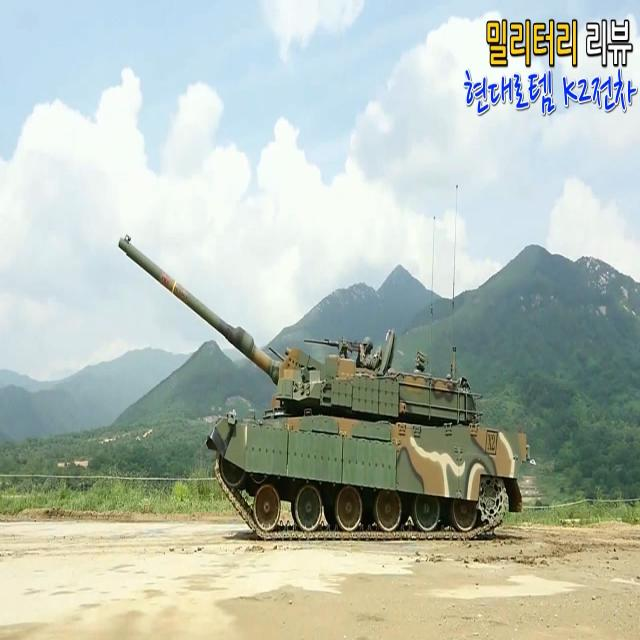korea tank: (117, 231, 530, 542)
